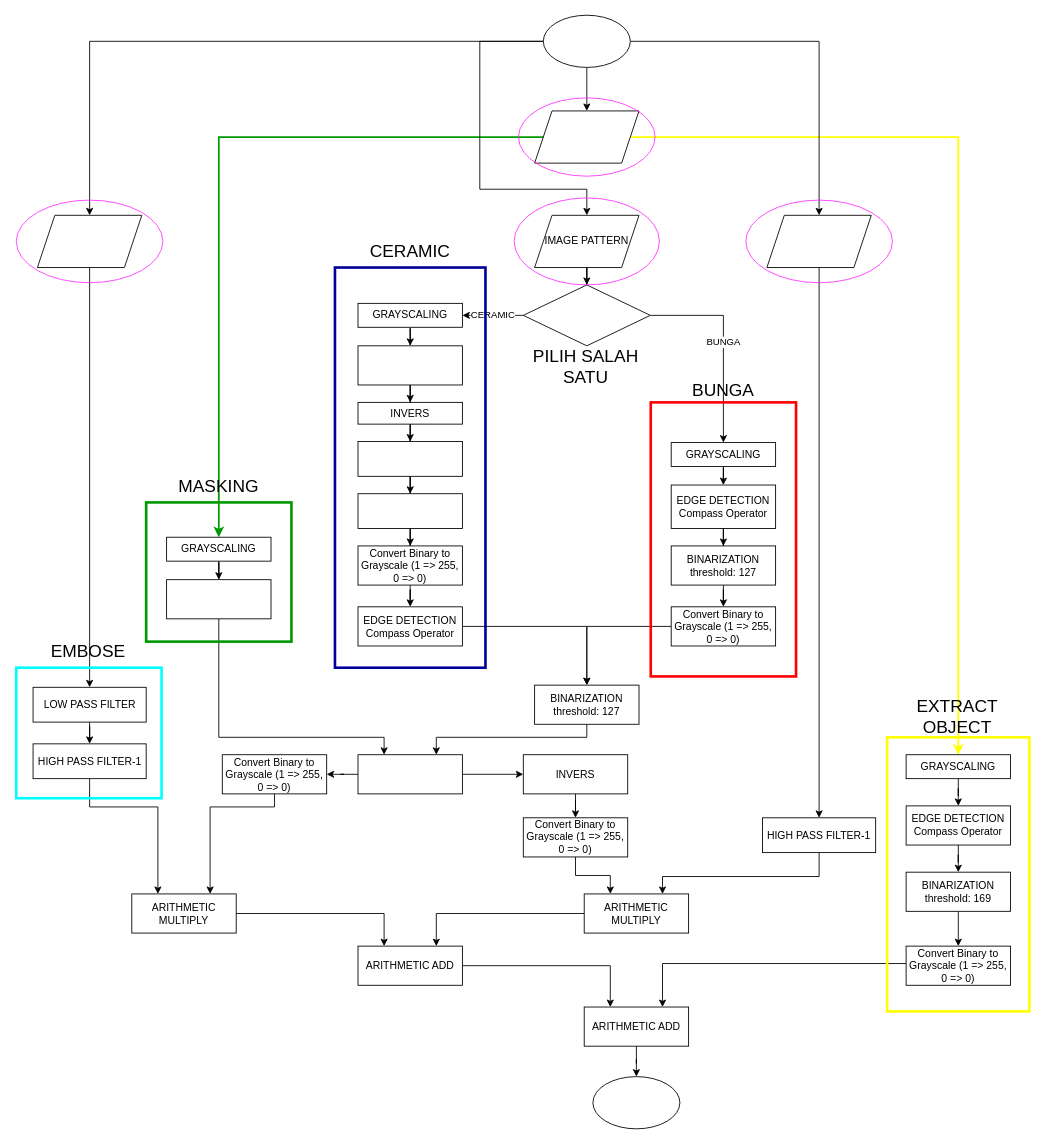
Some shapes in this 1046 by 1144 pixel diagram are drawn without their labels. Each missing label, with the box of its shape:
ARITHMETIC AND: (357, 754, 462, 794)
BINARIZATION threshold: 148: (357, 345, 462, 385)
BINARIZATION threshold: 229: (166, 579, 271, 619)
DILATION 2x: (357, 441, 462, 476)
END: (592, 1076, 680, 1129)
EROSION 2x: (357, 493, 462, 529)
IMAGE BACKGROUND: (766, 214, 871, 268)
IMAGE PATTERN OBJECT: (534, 110, 639, 163)
IMAGE TEXTURE: (37, 214, 142, 268)
Pattern Type: (522, 284, 650, 346)
START: (542, 14, 630, 67)
